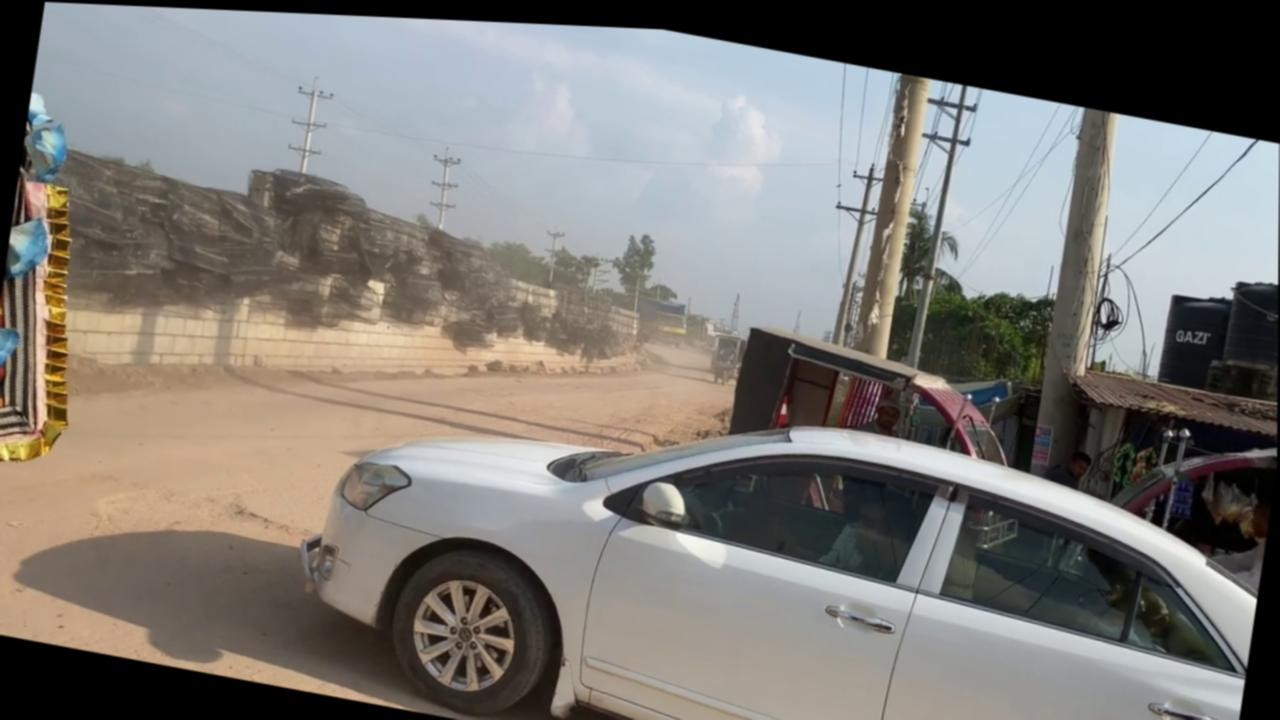Car: (292, 327, 1272, 720)
Muddy road: (0, 215, 790, 720)
Pole: (1025, 94, 1127, 474), (850, 61, 931, 351), (283, 68, 335, 174), (422, 138, 464, 227)
Traffic-sign: (893, 185, 965, 300), (605, 220, 659, 308)
Tree: (725, 313, 1021, 477), (631, 286, 690, 343), (706, 323, 744, 379), (650, 301, 689, 342), (700, 309, 739, 346)
Upstairs: (19, 126, 656, 458)
